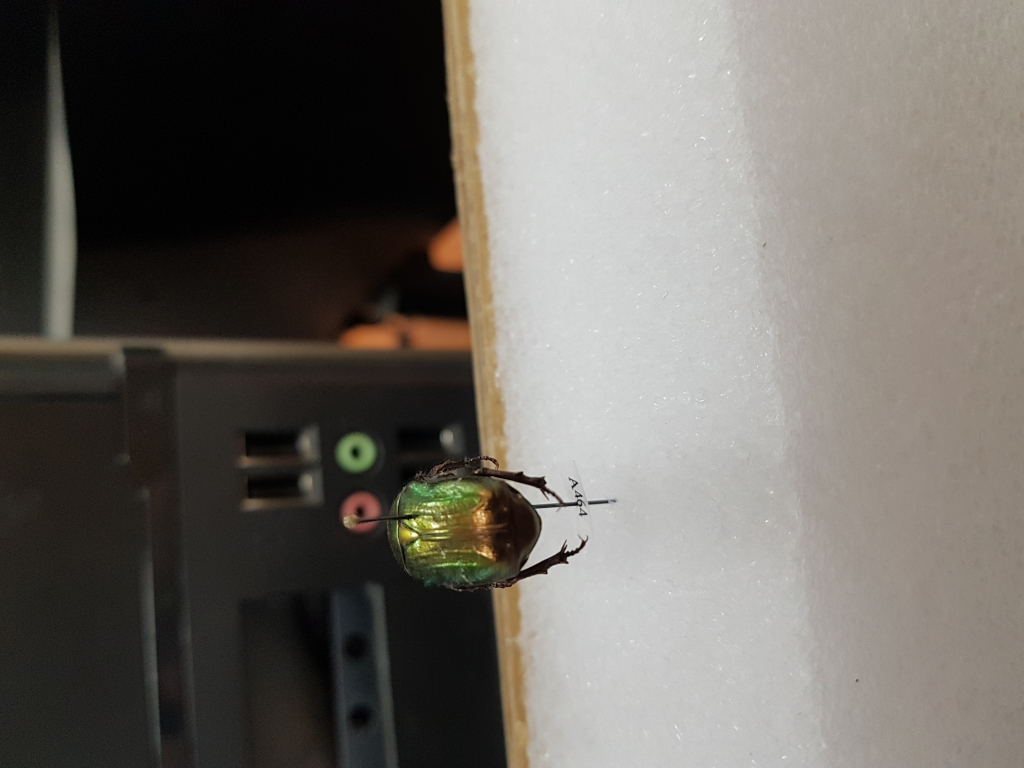Cetonia_kemali: (386, 447, 593, 601)
